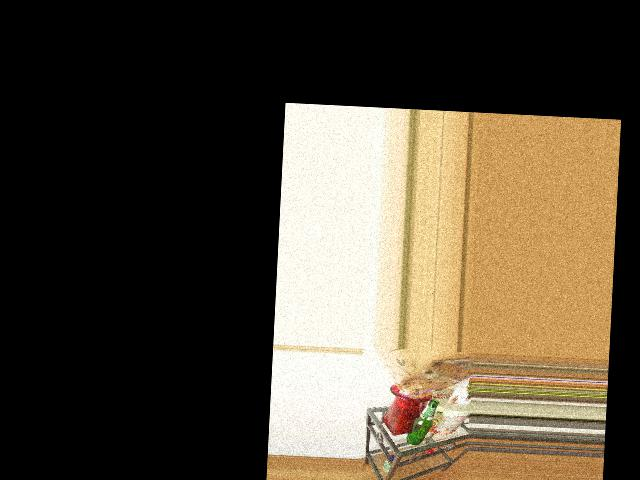beer: (406, 398, 438, 446)
